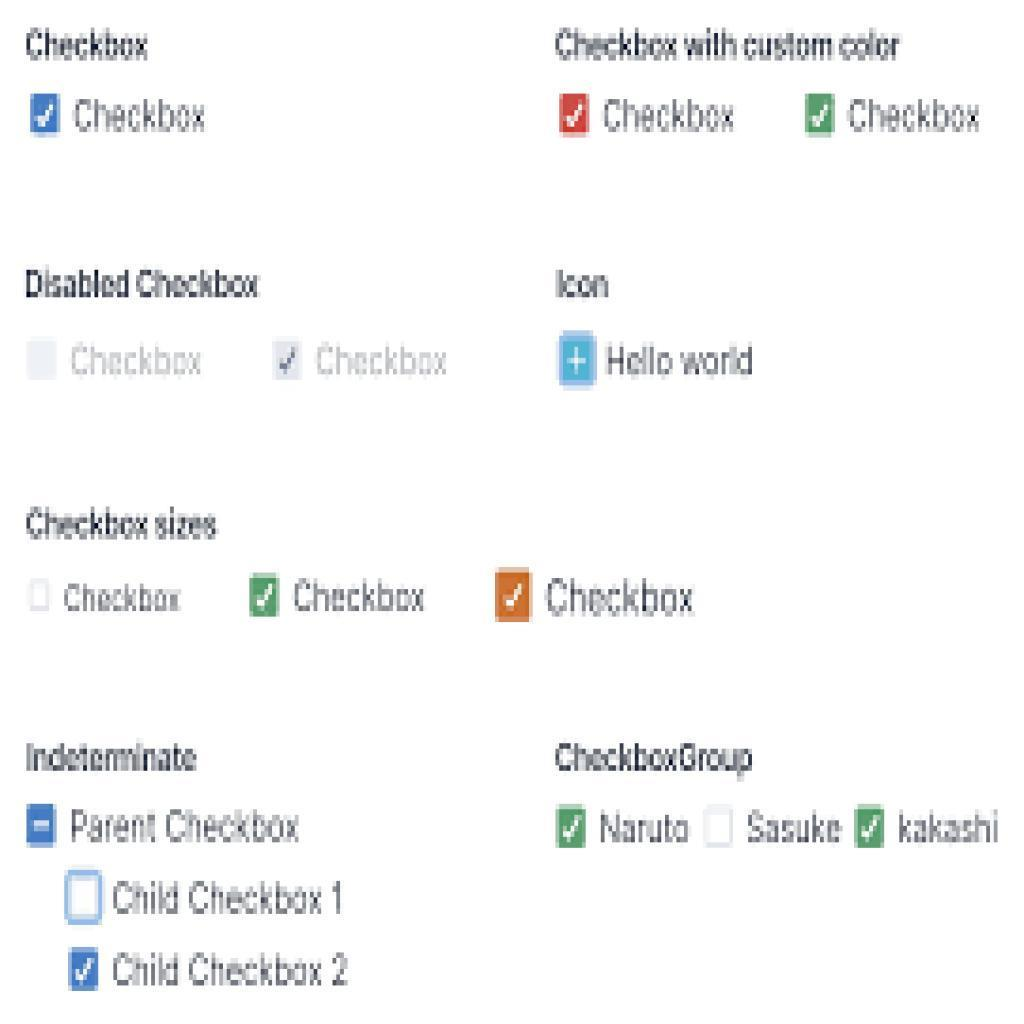checkbox: (68, 871, 105, 924), (495, 572, 533, 621), (25, 338, 60, 385), (269, 341, 302, 384), (248, 574, 281, 617), (854, 804, 884, 851), (703, 805, 734, 849), (68, 949, 99, 991), (807, 96, 837, 138), (30, 94, 59, 136), (559, 807, 587, 849), (560, 96, 589, 134), (28, 580, 56, 616)
icon: (560, 332, 598, 389)
label: (557, 24, 905, 67), (23, 261, 273, 320), (70, 802, 309, 852), (107, 946, 361, 992), (114, 873, 352, 921), (29, 501, 222, 556), (556, 741, 756, 782), (19, 741, 218, 779), (601, 94, 738, 149), (312, 337, 456, 389), (73, 94, 213, 147), (607, 340, 765, 382), (545, 576, 695, 620), (851, 96, 988, 142), (26, 26, 163, 69), (297, 577, 440, 618), (76, 343, 205, 388), (891, 807, 1006, 849), (67, 583, 188, 622), (743, 810, 844, 849), (601, 812, 695, 853), (552, 265, 618, 300)
